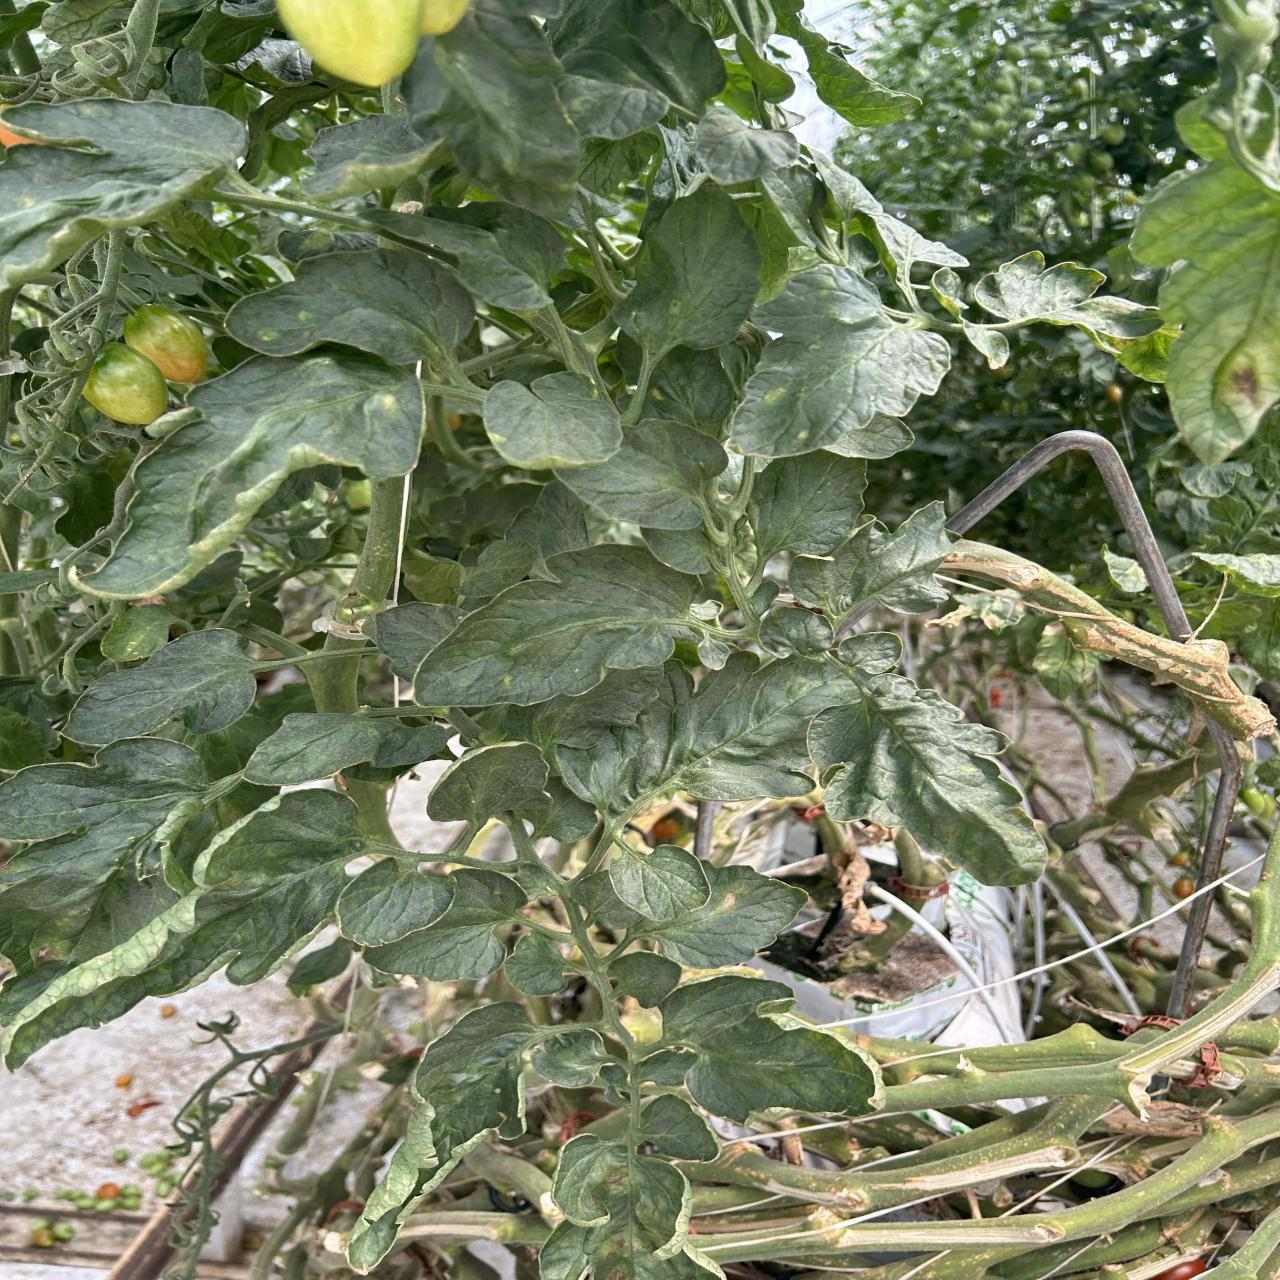Rugose leaf: (6, 790, 369, 1069)
Rugose tomato: (124, 305, 209, 383)
